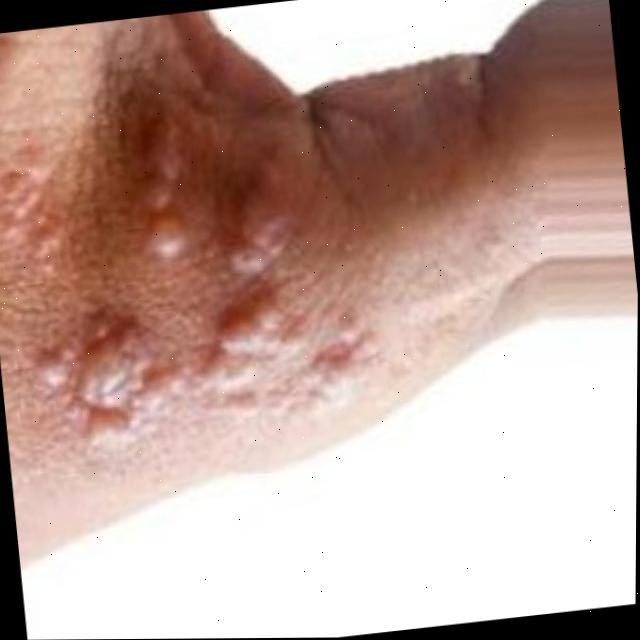Shingles: (49, 212, 341, 450), (0, 137, 30, 205)
